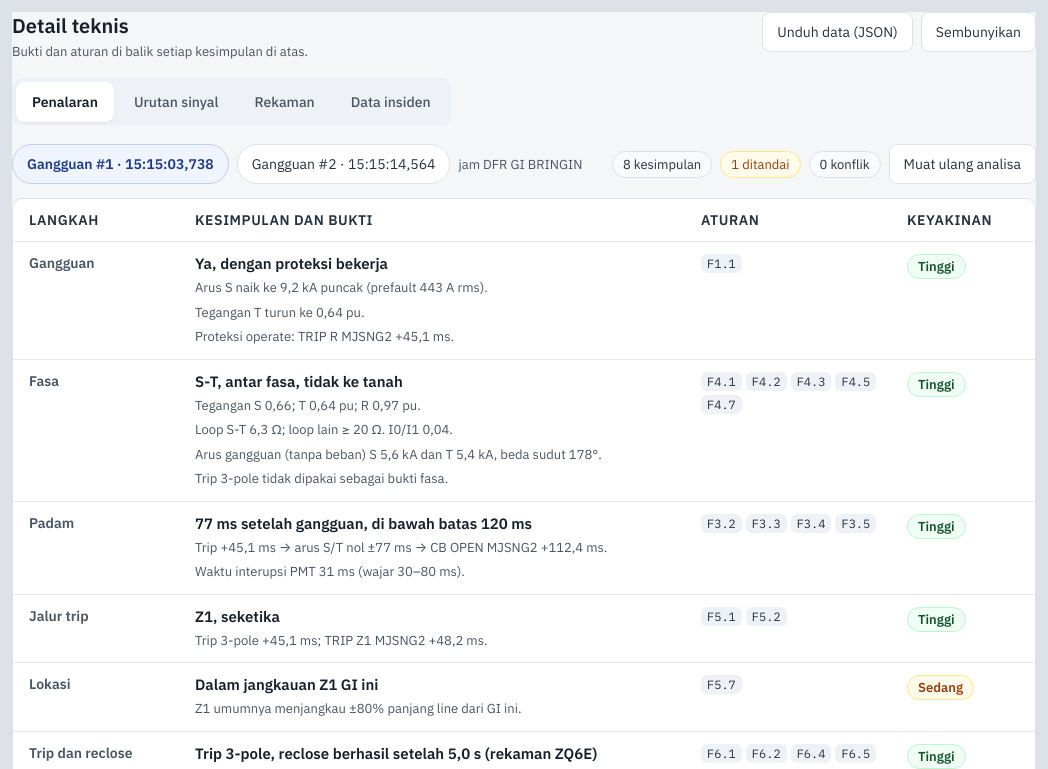
Scenario: TechnicalDetails — Penalaran › switches to the re-fault
This screenshot has width=1048, height=769.
Click the button "Gangguan #2 · 15:15:14,564".
click(344, 164)  # box x1=237 y1=144 x2=450 y2=184
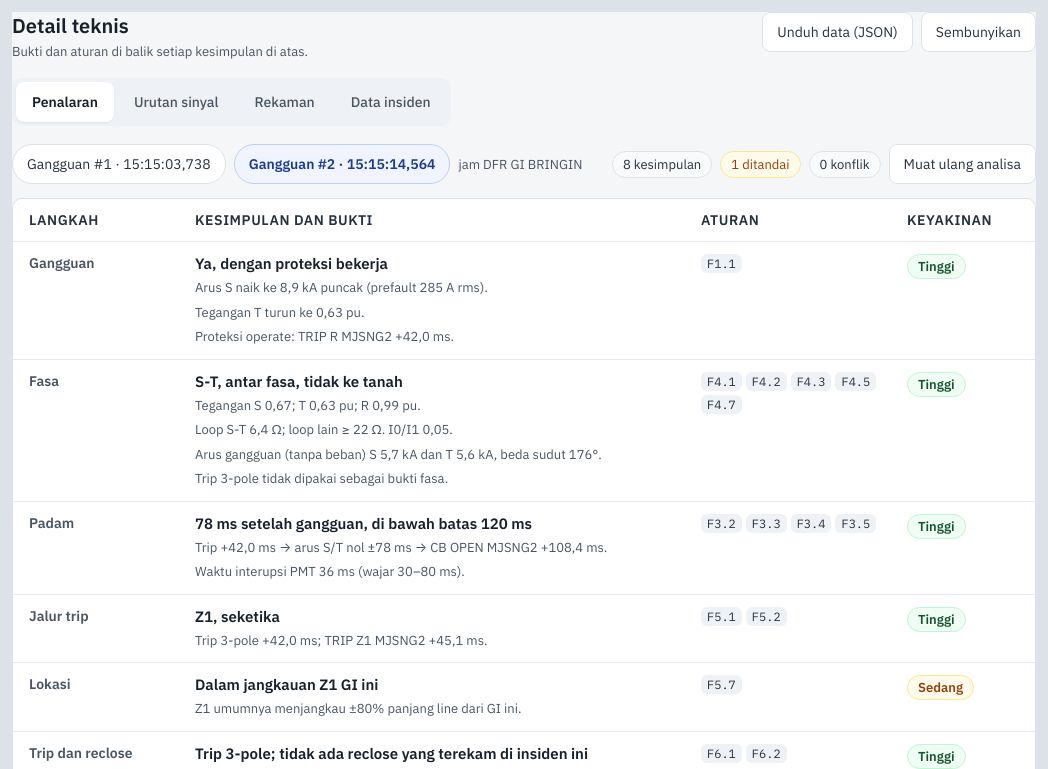
Now the text "Trip 3-pole; tidak ada reclose yang terekam di insiden ini" is shown, box x1=195 y1=744 x2=588 y2=762
